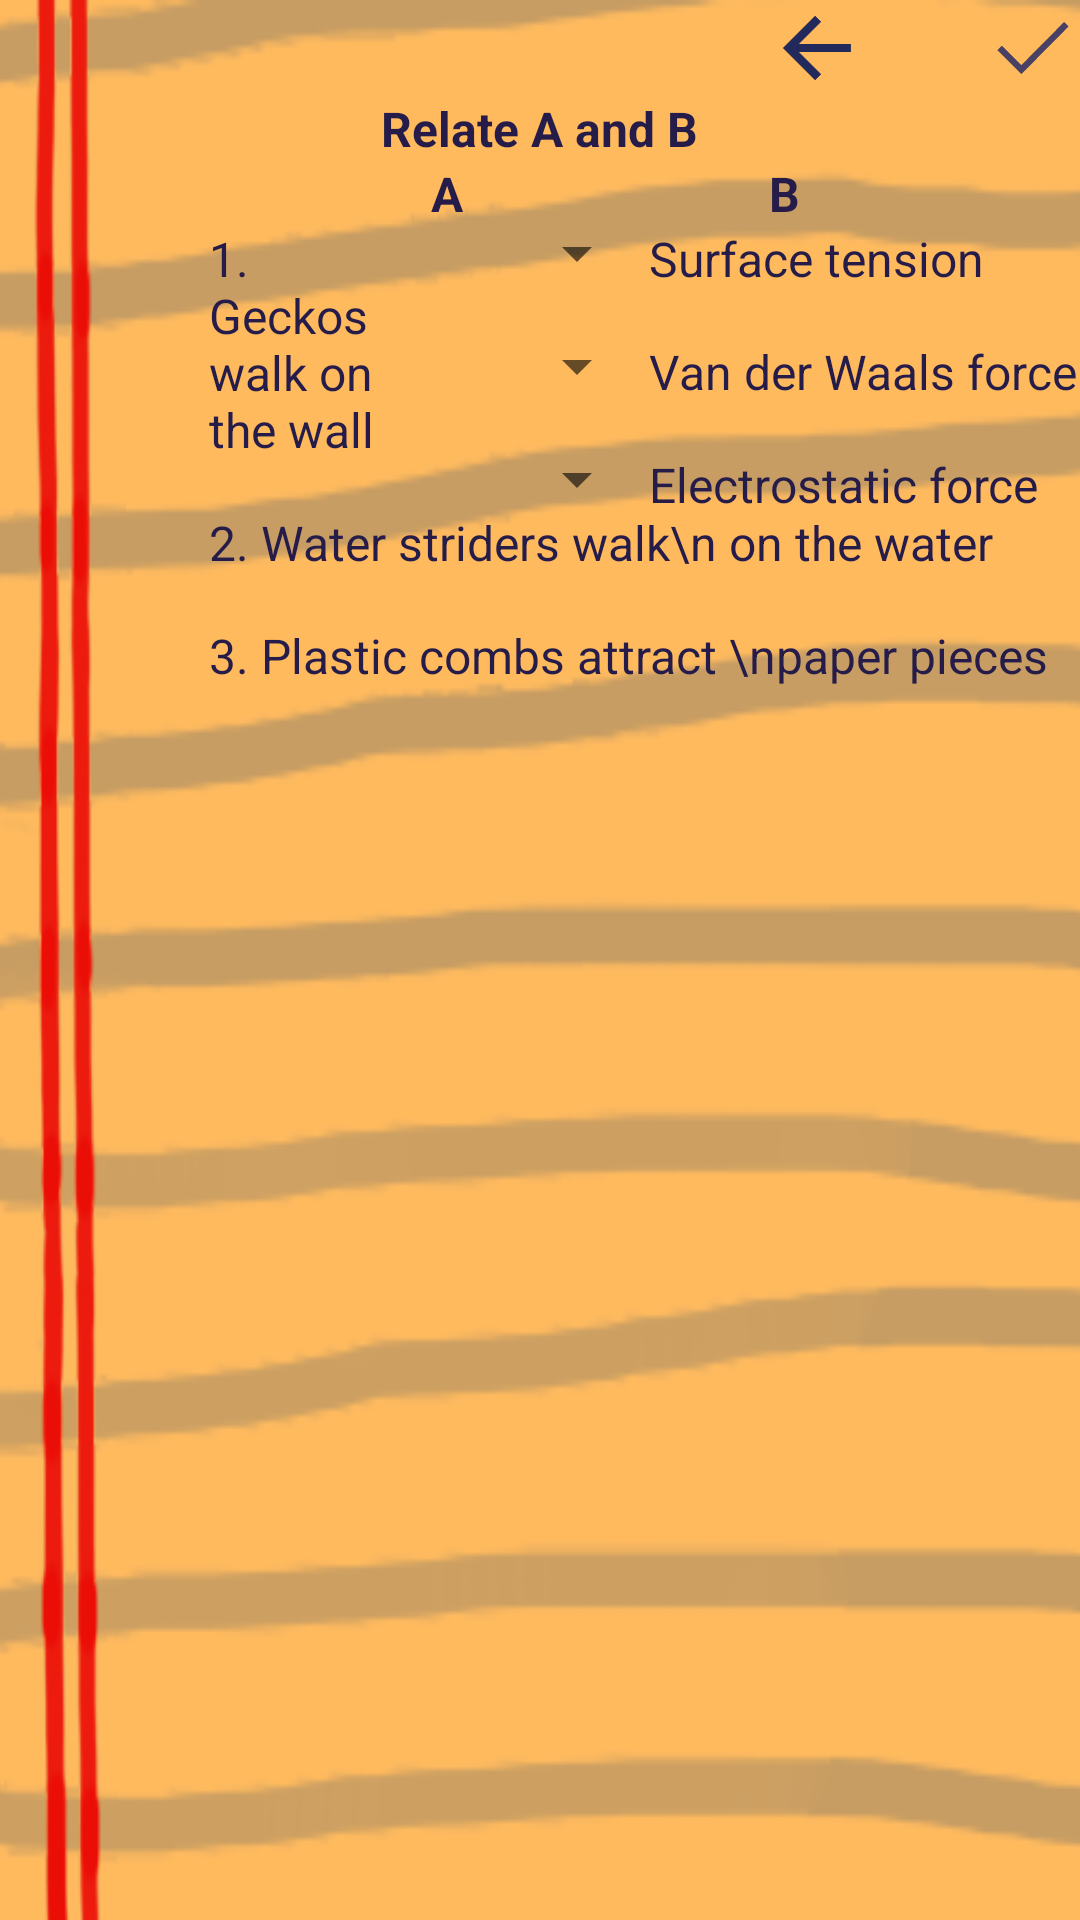

Where icons sit on this 1080 × 1920 app screen, as (x1, y1, x2, y2):
accept: (989, 0, 1080, 74)
back: (783, 16, 851, 80)
